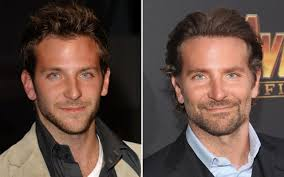white_male: (173, 43, 252, 131)
